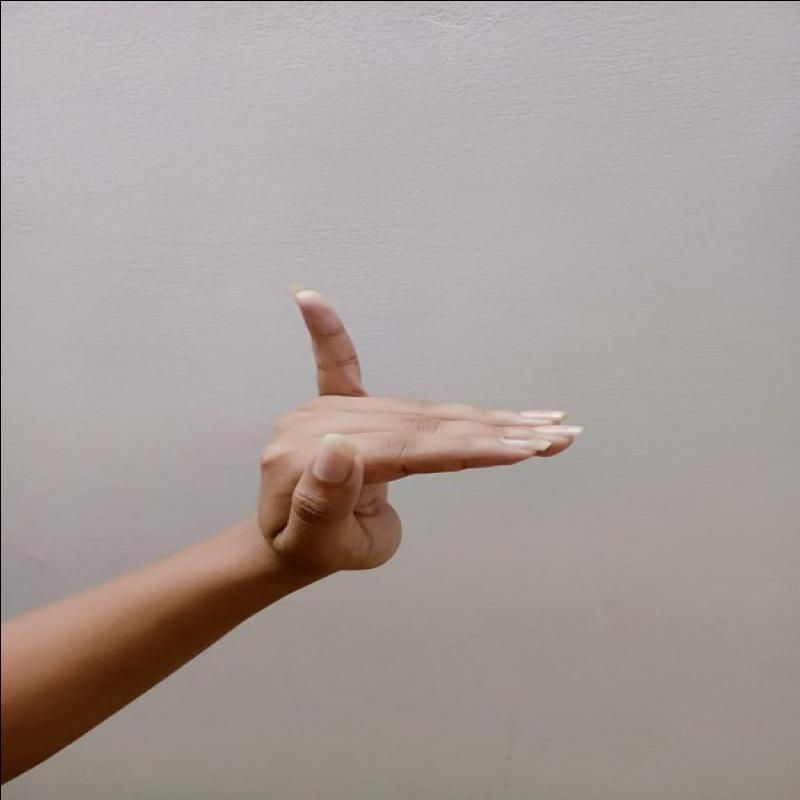Kartharee Mukham: (225, 274, 591, 590)
